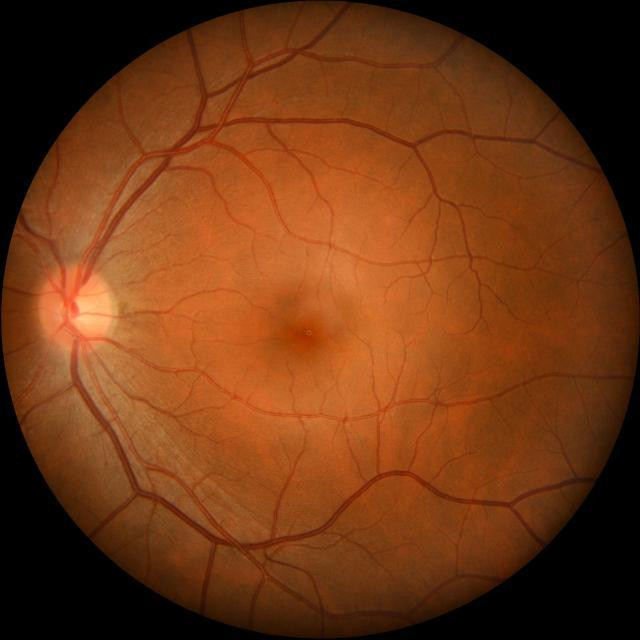OC: (62, 292, 98, 328)
OD: (38, 265, 114, 352)
